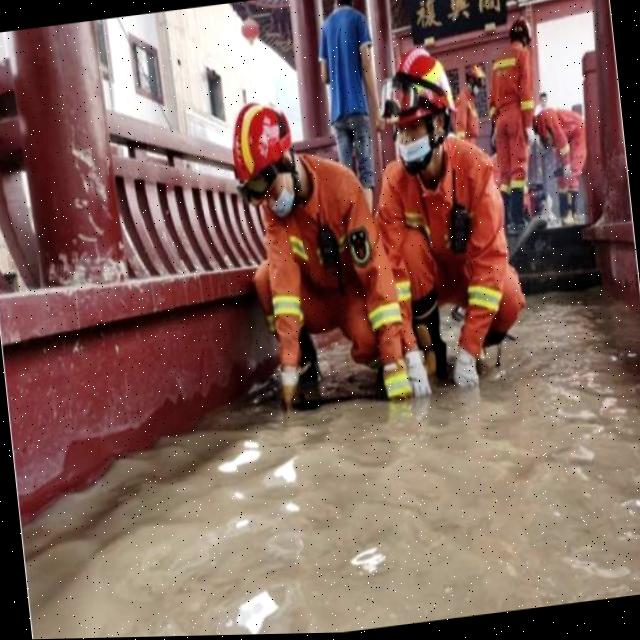civilian: (302, 0, 414, 229)
rescuer: (206, 68, 442, 449), (364, 19, 523, 403), (478, 0, 554, 243), (524, 95, 599, 235), (450, 56, 490, 159)
